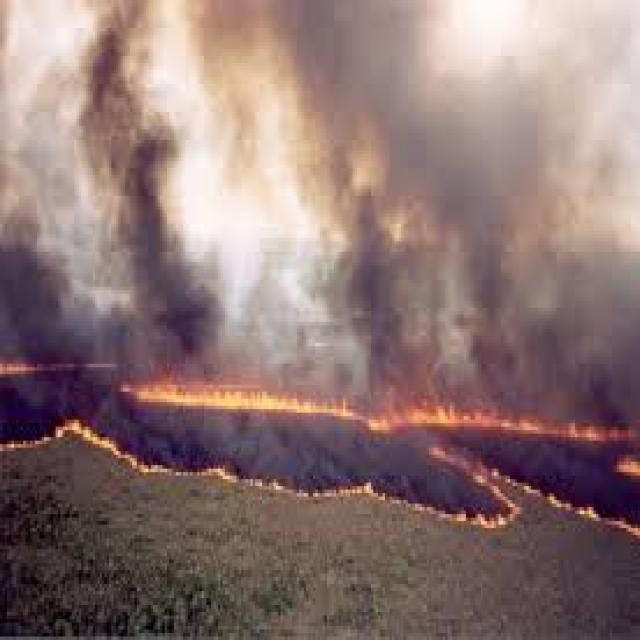Fire: (372, 392, 640, 468), (122, 368, 368, 426), (475, 471, 640, 556), (115, 451, 226, 495), (242, 481, 379, 516), (0, 352, 116, 382), (61, 416, 104, 454)
Smoke: (0, 2, 640, 333)
